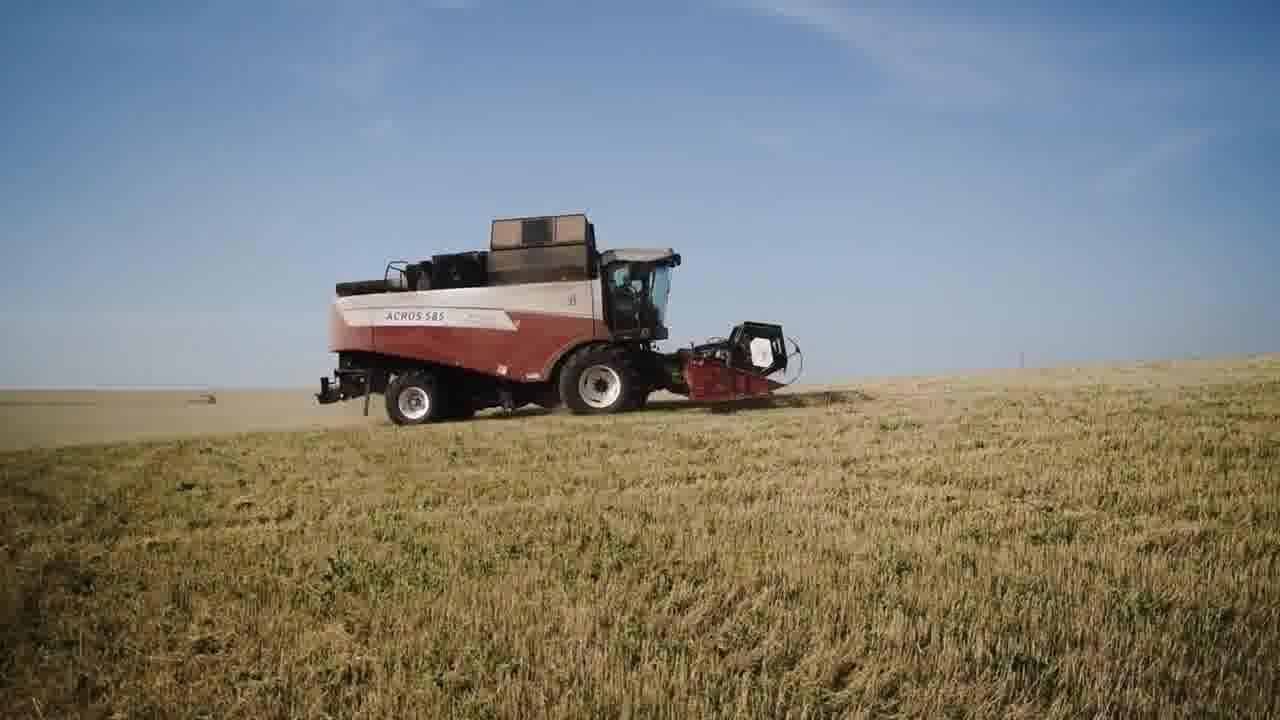combine harvester: (311, 211, 807, 427)
